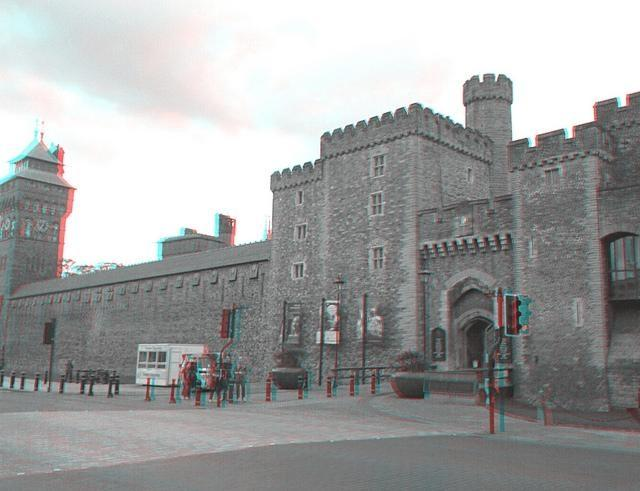car: (180, 353, 222, 387)
truck: (135, 342, 207, 386)
